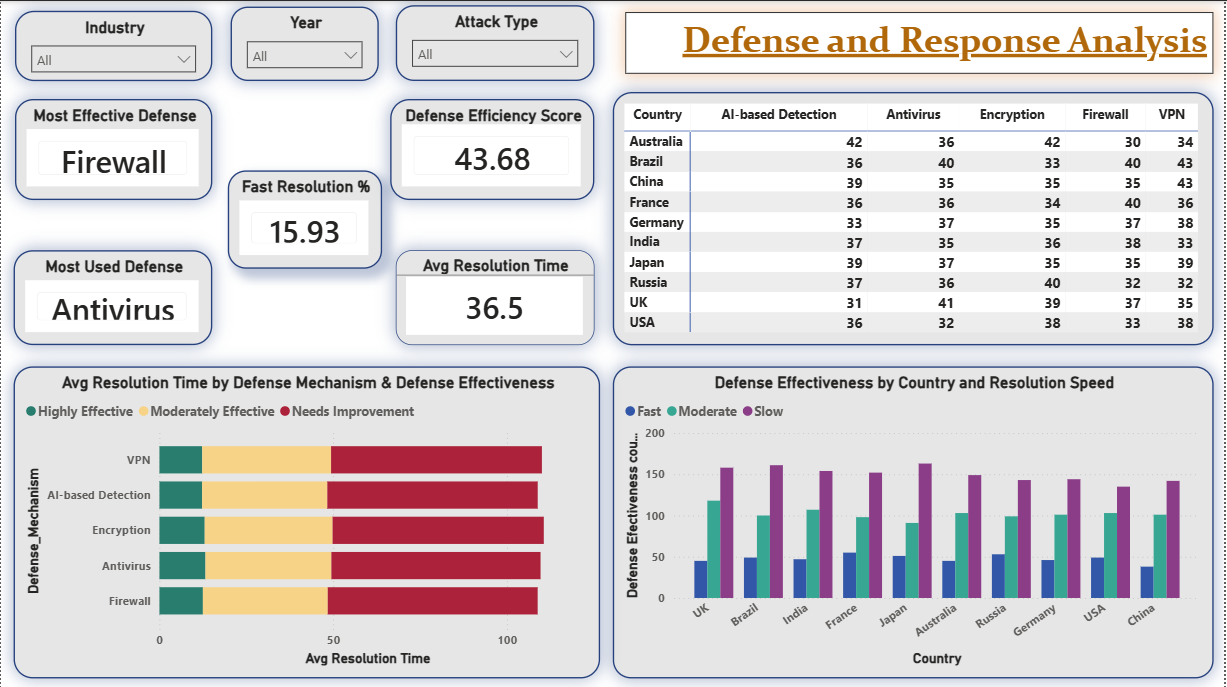

This screenshot's page, from the dashboard's own definition file:
{"tool":"powerbi","page":{"name":"Page 4","canvas":[1280,720],"ordinal":3},"visuals":[{"type":"clusteredColumnChart","title":"Defense Effectiveness by Country and Resolution Speed","fields":{"Category":["cybersecuritydb global_cybersecurity.Country"],"Series":["cybersecuritydb global_cybersecurity.Resolution_Speed"],"Y":["CountNonNull(cybersecuritydb global_cybersecurity.Defense_Effectiveness)"]},"box":[640,382.3,628.3,326.6],"z":0},{"type":"barChart","title":"Avg Resolution Time by Defense Mechanism & Defense Effectiveness","fields":{"Category":["cybersecuritydb global_cybersecurity.Defense_Mechanism"],"Series":["cybersecuritydb global_cybersecurity.Defense_Effectiveness"],"Y":["cybersecuritydb global_cybersecurity.Avg Resolution Time"]},"box":[13.2,382.3,613.7,326.6],"z":1000},{"type":"cardVisual","title":"Fast Resolution %","fields":{"Data":["cybersecuritydb global_cybersecurity.Fast Resolution %"]},"box":[237.3,177.2,161.1,102.5],"z":2000},{"type":"cardVisual","title":"Avg Resolution Time","fields":{"Data":["cybersecuritydb global_cybersecurity.Avg Resolution Time"]},"box":[413,260.7,208,99.6],"z":3000},{"type":"slicer","title":"Year","fields":{"Values":["cybersecuritydb global_cybersecurity.Year_Group"]},"box":[240.2,5.9,155.3,77.6],"z":4000},{"type":"textbox","box":[653.2,11.7,615.1,64.4],"z":5000},{"type":"cardVisual","title":"Most Used Defense","fields":{"Data":["cybersecuritydb global_cybersecurity.Most Common Defense Mechanism"]},"box":[13.2,260.7,208,99.6],"z":6000},{"type":"cardVisual","title":"Most Effective Defense","fields":{"Data":["cybersecuritydb global_cybersecurity.Highly Effective Defense Mechanism"]},"box":[14.6,102.5,206.5,105.5],"z":7000},{"type":"slicer","title":"Industry","fields":{"Values":["cybersecuritydb global_cybersecurity.Target_Industry"]},"box":[14.6,10.3,206.5,73.2],"z":8000},{"type":"slicer","title":"Attack Type","fields":{"Values":["cybersecuritydb global_cybersecurity.Attack_Type"]},"box":[413,4.4,208,79.1],"z":9000},{"type":"cardVisual","title":"Defense Efficiency Score","fields":{"Data":["cybersecuritydb global_cybersecurity.Defense Efficiency Score"]},"box":[407.2,102.5,213.8,105.5],"z":10000},{"type":"pivotTable","fields":{"Rows":["cybersecuritydb global_cybersecurity.Country"],"Columns":["cybersecuritydb global_cybersecurity.Defense_Mechanism"],"Values":["cybersecuritydb global_cybersecurity.Avg Resolution Time"]},"box":[640,95.2,628.3,265.1],"z":11000}]}

Visuals, with their boxes in screenshot pixels (x1, y1, x2, y2), scaled from the page's 1280x720 canvas onto the 1227x687 screenshot:
"Defense Effectiveness by Country and Resolution Speed" clusteredColumnChart: [614, 365, 1216, 676]
"Avg Resolution Time by Defense Mechanism & Defense Effectiveness" barChart: [13, 365, 601, 676]
"Fast Resolution %" cardVisual: [227, 169, 382, 267]
"Avg Resolution Time" cardVisual: [396, 249, 595, 344]
"Year" slicer: [230, 6, 379, 80]
textbox: [626, 11, 1216, 73]
"Most Used Defense" cardVisual: [13, 249, 212, 344]
"Most Effective Defense" cardVisual: [14, 98, 212, 198]
"Industry" slicer: [14, 10, 212, 80]
"Attack Type" slicer: [396, 4, 595, 80]
"Defense Efficiency Score" cardVisual: [390, 98, 595, 198]
pivotTable - cybersecuritydb global_cybersecurity.Country x cybersecuritydb global_cybersecurity.Defense_Mechanism: [614, 91, 1216, 344]
